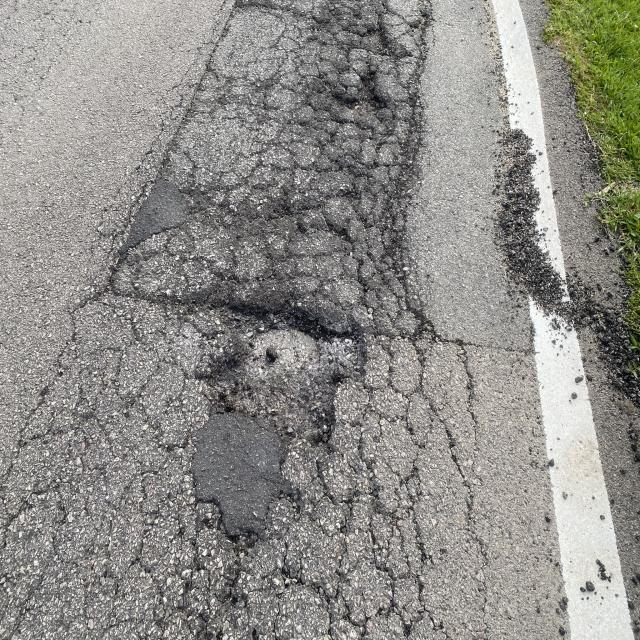Pothole: (167, 266, 431, 494), (289, 34, 443, 162)
